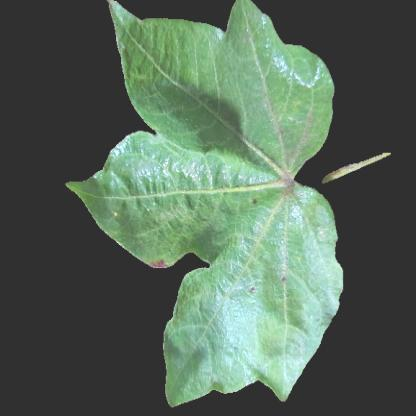healthy: (190, 61, 292, 247), (212, 265, 302, 375), (111, 144, 186, 238), (128, 20, 187, 108), (305, 205, 335, 313), (175, 301, 211, 387), (292, 67, 326, 151)
